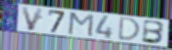4: (94, 15, 115, 41)
7: (47, 9, 66, 34)
B: (141, 19, 167, 45)
D: (117, 16, 142, 42)
M: (66, 11, 95, 38)
V: (20, 6, 45, 32)
